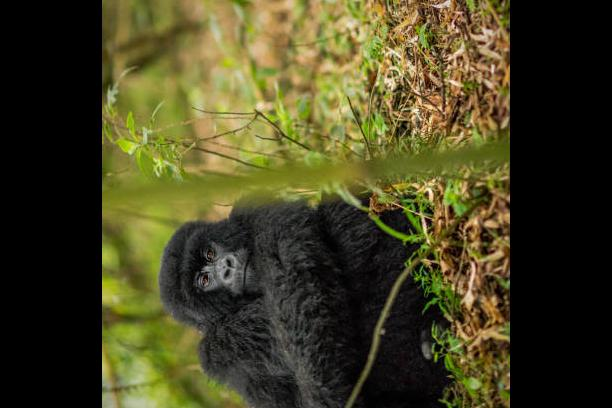goriile_montagne: (150, 194, 455, 408)
